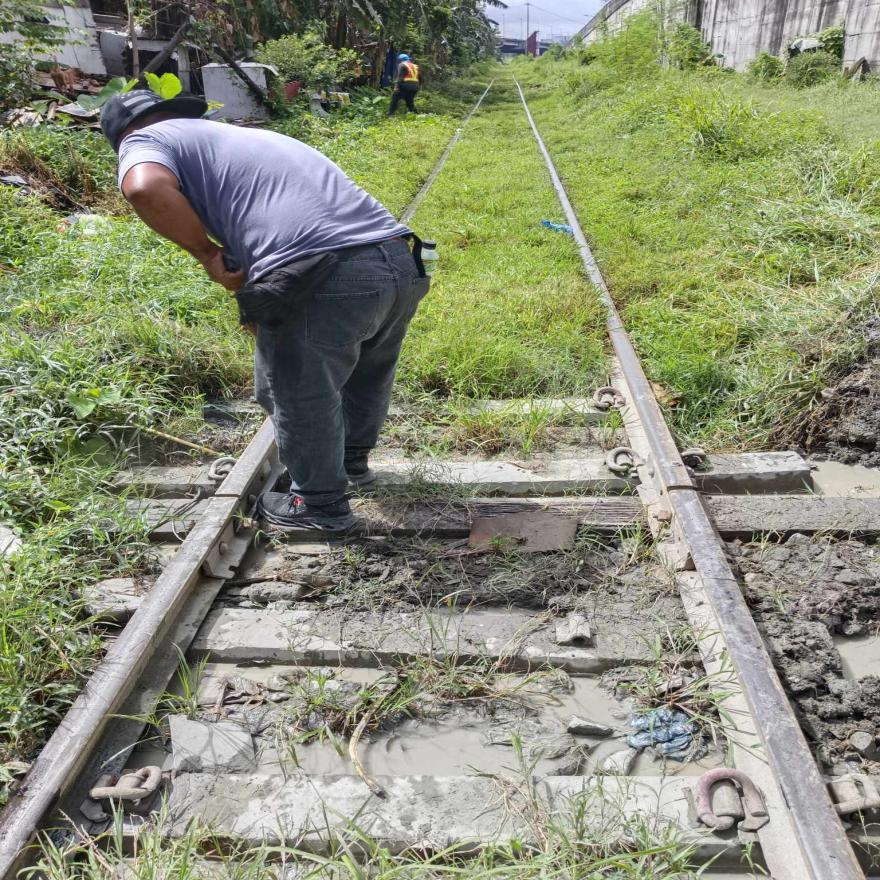railway-gap: (166, 459, 276, 533), (640, 461, 723, 523)
